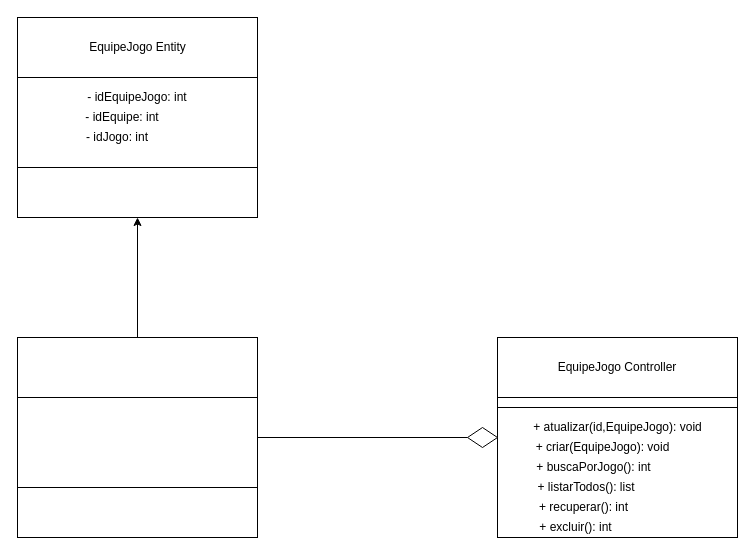
The diagram is 755 pixels wide and 555 high, and some of its shapes have lost their labels. Here are the shapes that lost their labels. From the top down, the centre of each, then its label:
At (137,367): "EquipeJogo Repository".
At (137,512): "+ findByIdEquipeGamer: int".
